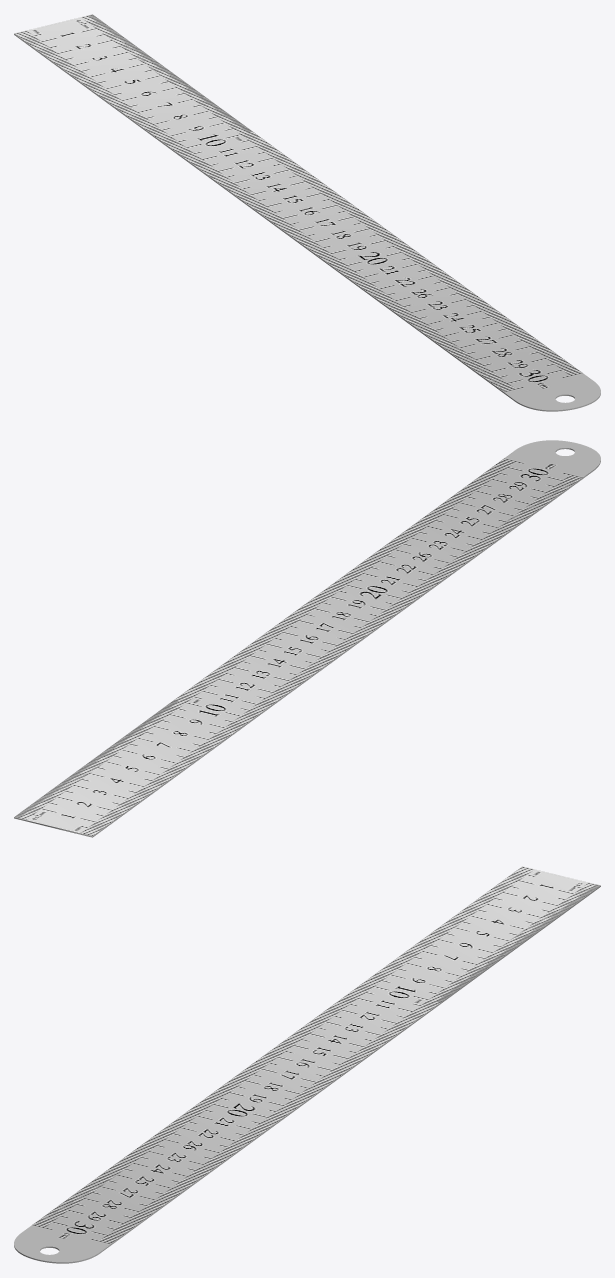
The picture shows the model from 3 angles, top to bottom: view 1: azimuth 30°, elevation 25°; view 2: azimuth 150°, elevation 25°; view 3: azimuth 330°, elevation 25°; orthographic projection.
Parts seen in each view (by area): view 1: Ruler_Cylinder.002; view 2: Ruler_Cylinder.002; view 3: Ruler_Cylinder.002.
Boxes of the visible parts, box(x1,y1,x2,y2) form: Ruler_Cylinder.002: box(14, 14, 600, 411); Ruler_Cylinder.002: box(14, 440, 600, 837); Ruler_Cylinder.002: box(14, 866, 600, 1263).
Bounding box in the file's own units: 1.27 × 0.02 × 14.66.
Materials: 1 (1 with a texture image).
